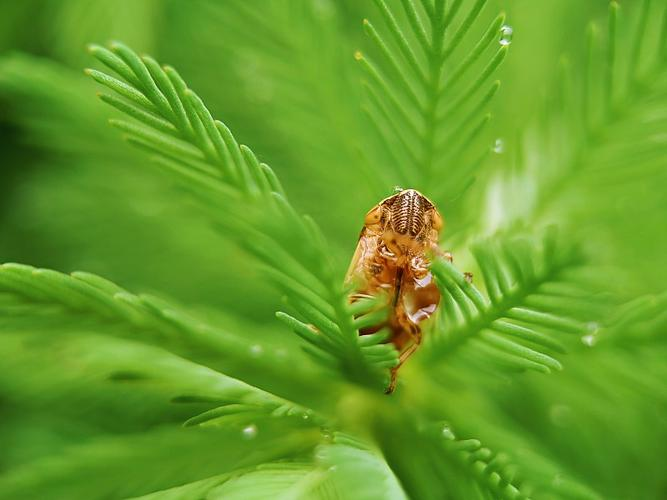Cicadellidae: (342, 189, 452, 395)
